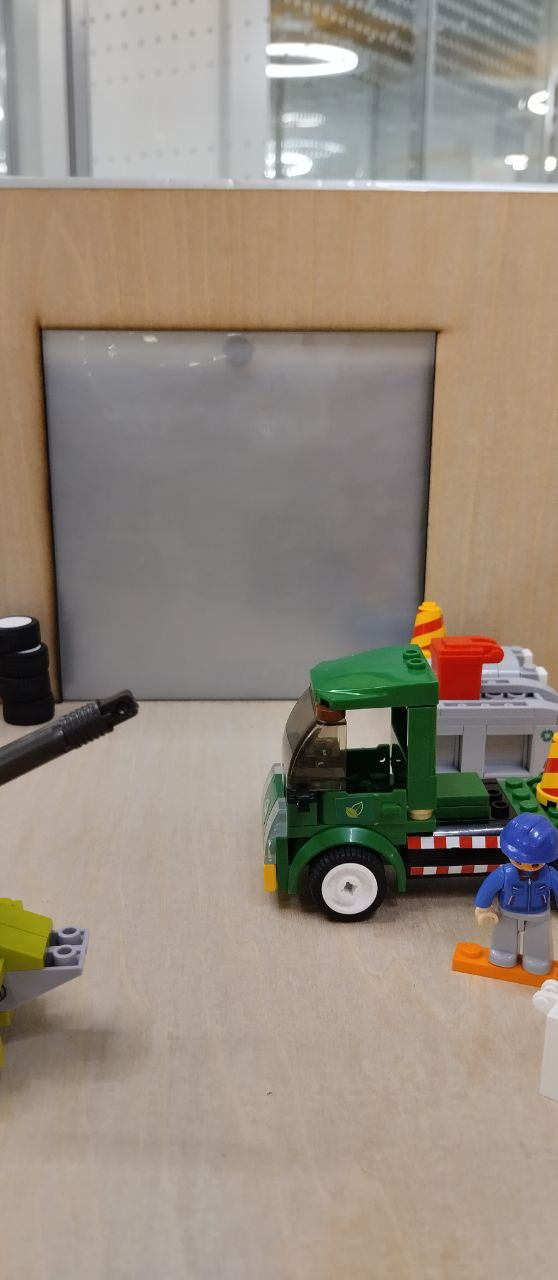Cone: (406, 599, 449, 675), (535, 729, 558, 808)
Object Red: (434, 636, 502, 703)
Truck: (266, 639, 557, 915)
